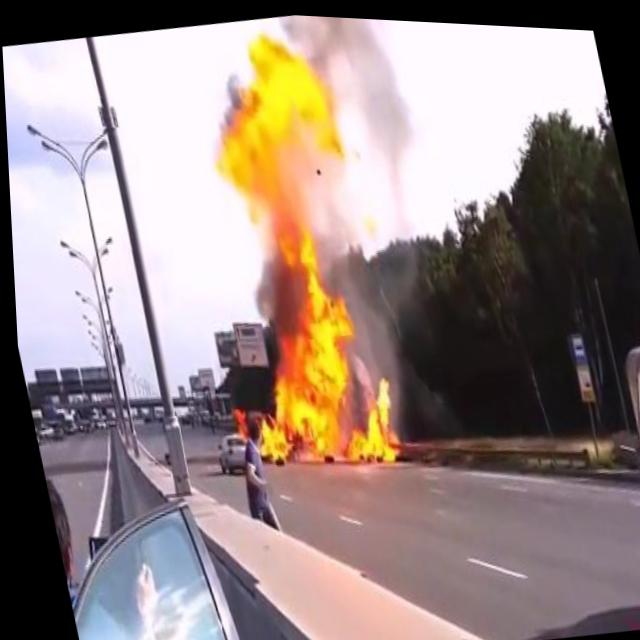fire: (174, 8, 413, 479)
